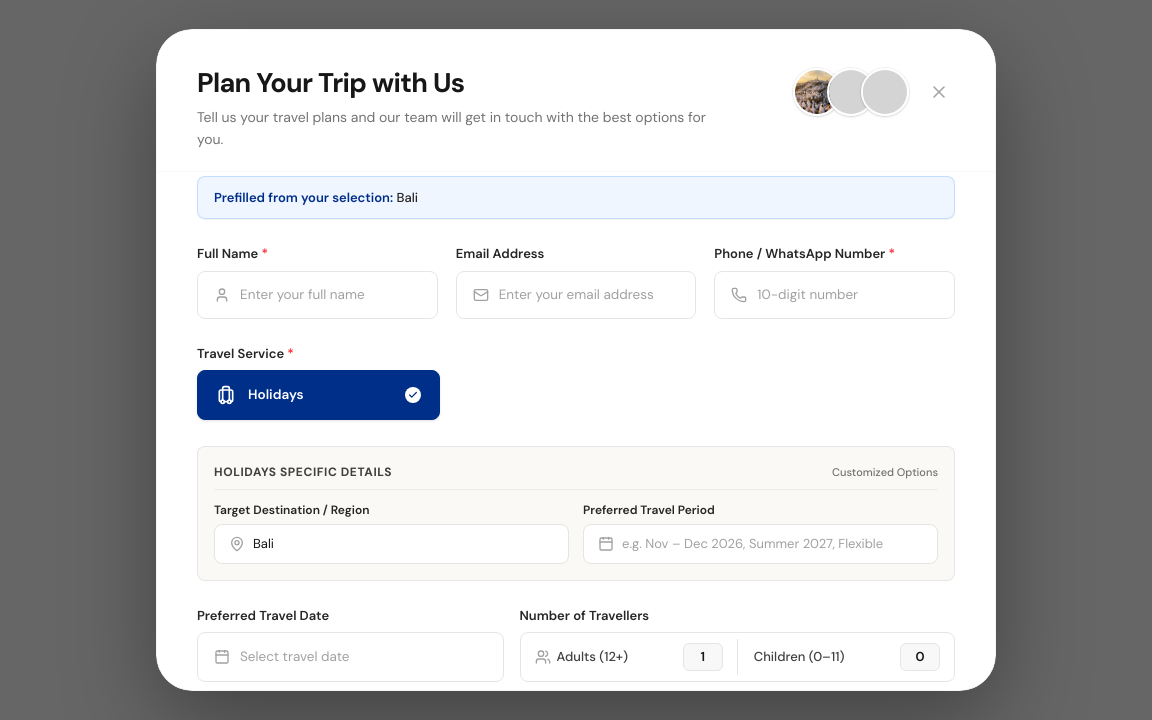
Test: public capture › keeps the search origin and destination in the enquiry sent to the team
The width and height of the screenshot is (1152, 720).
Step 1. Type "  Ahmed Ali  " into the field labelled "Full Name *" → x=330, y=295, box top-left (240, 286), bottom-right (421, 304)
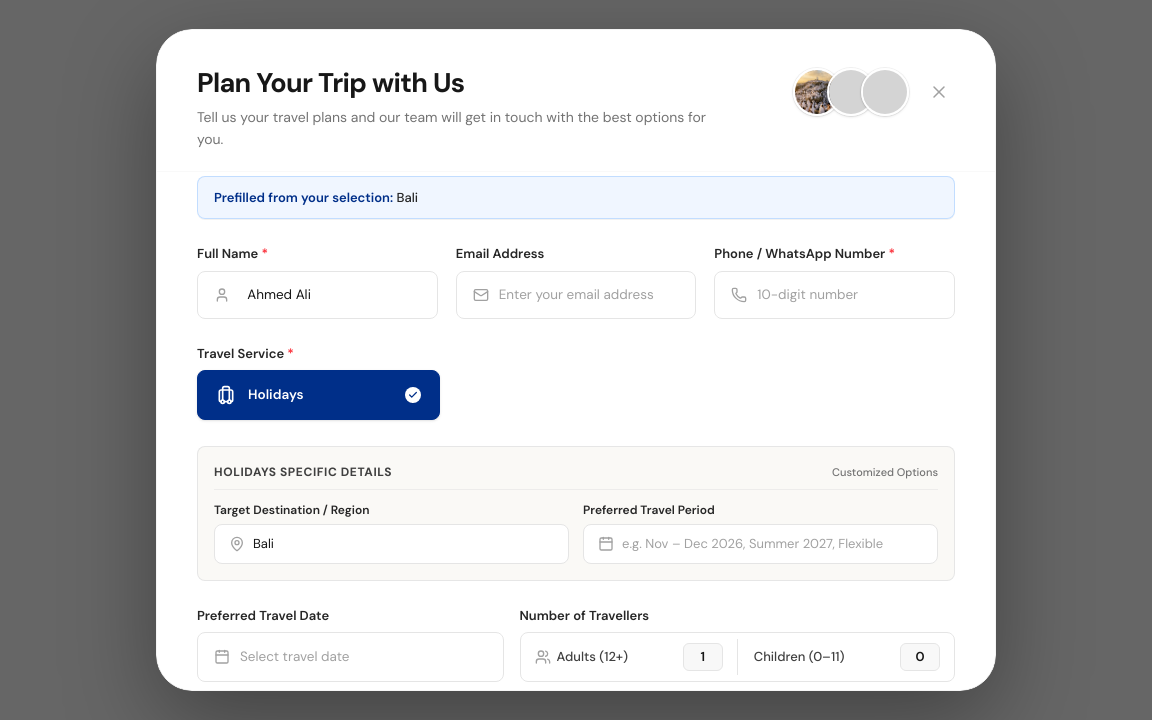
Step 2. Type "9876543210" into the field labelled "Phone / WhatsApp Number *" → x=848, y=295, box top-left (757, 286), bottom-right (938, 304)
(page scrolled)
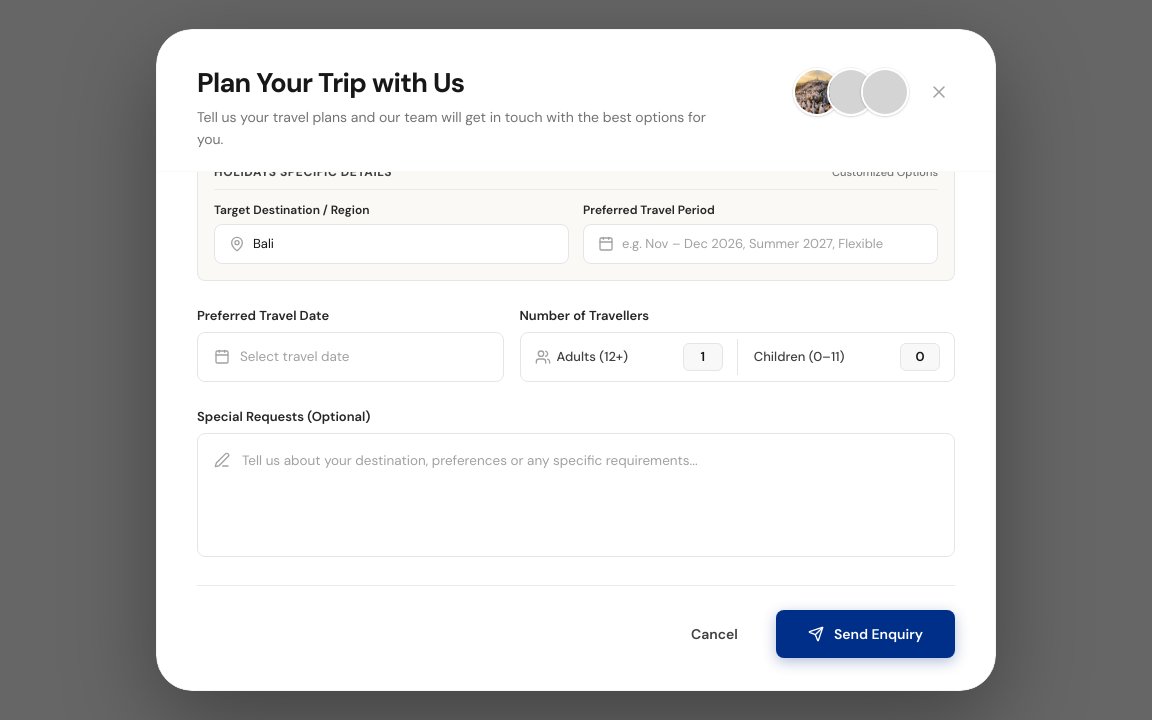
Step 3. Click the button with aria-label "Submit Travel Enquiry" → x=865, y=634, box top-left (776, 610), bottom-right (955, 658)
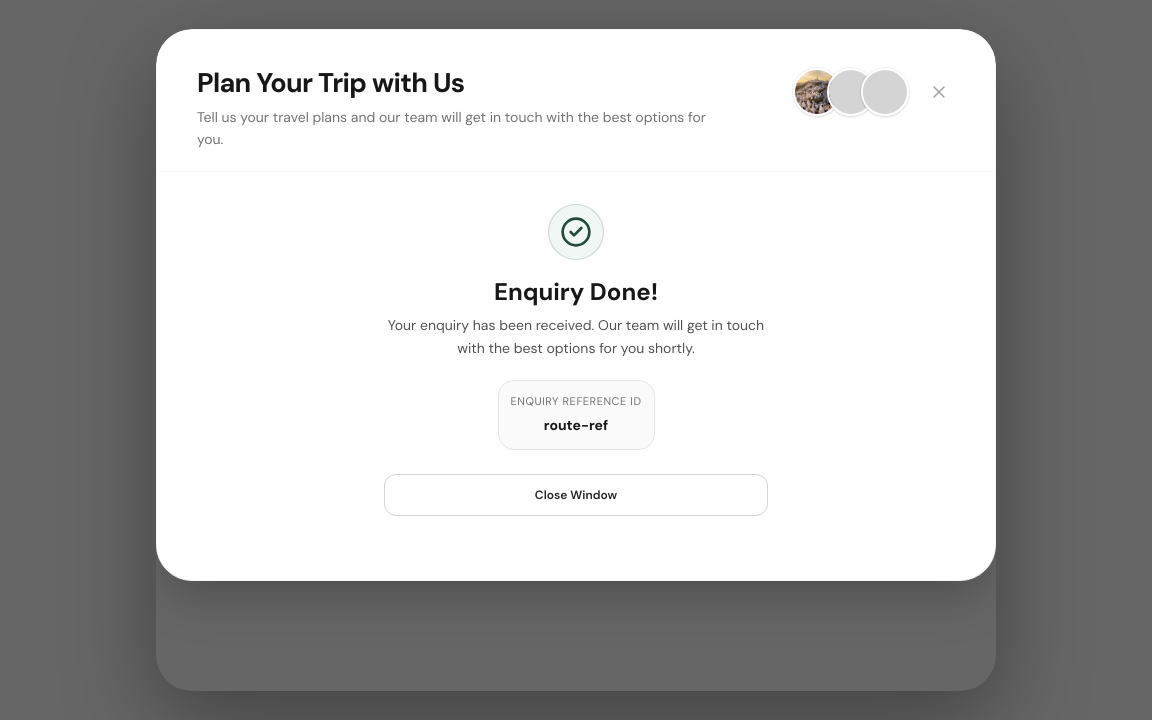
Check: the text "route-ref" is shown, box top-left (544, 416), bottom-right (608, 434)
